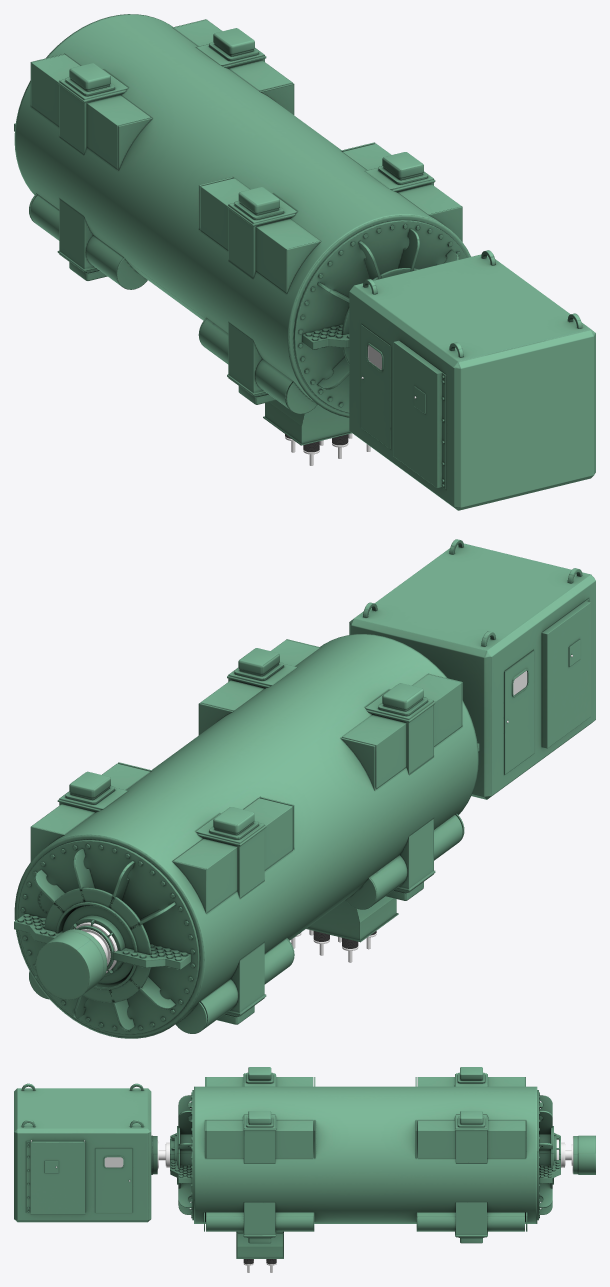
The model's file is Generator.glb.
3 renders of one model, top to bottom at view 1: azimuth 30°, elevation 25°; view 2: azimuth 150°, elevation 25°; view 3: azimuth 270°, elevation 25°, orthographic. The views are drawn at different scales.
Parts seen in each view (by area): view 1: Cylinder.018; view 2: Cylinder.018; view 3: Cylinder.018.
Part boxes in pixels (left/top/right/bottom): Cylinder.018: left=14, top=14, right=595, bottom=510; Cylinder.018: left=14, top=539, right=595, bottom=1038; Cylinder.018: left=14, top=1067, right=595, bottom=1272.
Size of the model in its own units: 2 by 2.75 by 8.47.
4 materials, 1 textured.
